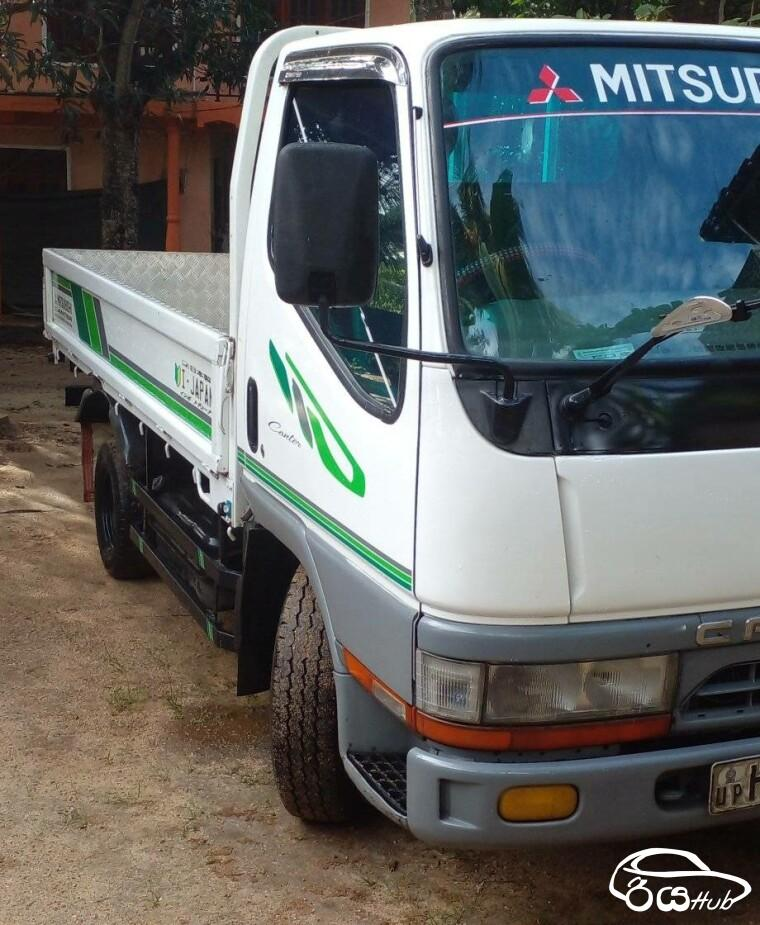truck: (40, 18, 760, 840)
